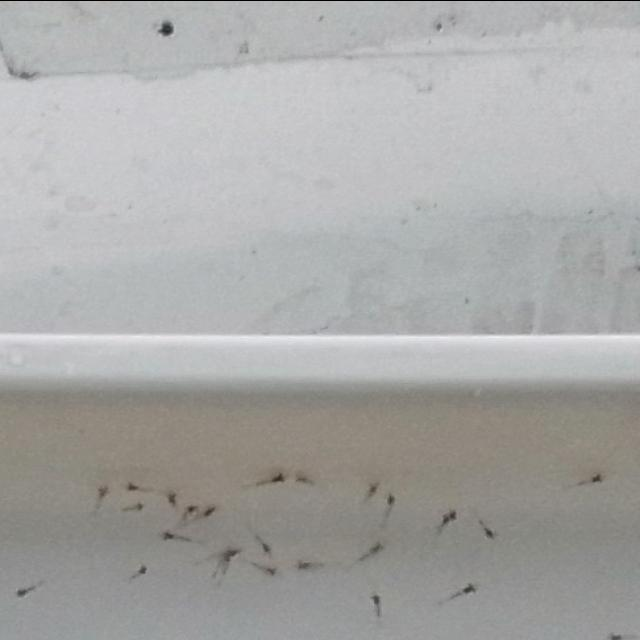shrimp-seed: (268, 470, 288, 484), (127, 500, 146, 514), (163, 489, 179, 505), (159, 529, 177, 543), (371, 539, 389, 553), (12, 586, 32, 598), (260, 563, 276, 578), (95, 485, 112, 499), (124, 479, 141, 493), (200, 504, 217, 518), (184, 501, 200, 515), (260, 541, 276, 555), (482, 524, 496, 540), (224, 545, 242, 557), (462, 580, 476, 594), (137, 563, 152, 576), (295, 557, 311, 569), (365, 479, 379, 492), (370, 592, 382, 606), (386, 493, 398, 507), (588, 472, 602, 484), (220, 551, 232, 563), (448, 508, 460, 520), (608, 631, 624, 640), (440, 511, 451, 524)
